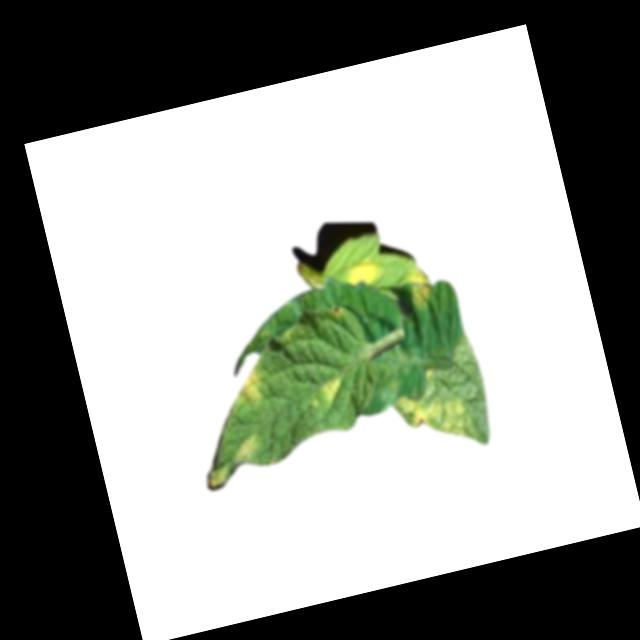Leaf_Mold: (395, 384, 469, 448), (403, 261, 441, 311), (342, 252, 390, 290), (230, 367, 269, 408), (315, 371, 350, 406), (202, 459, 231, 490), (233, 433, 260, 463)
